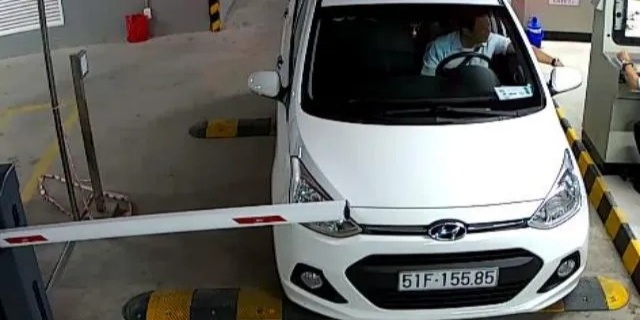bien_so: (400, 269, 498, 289)
